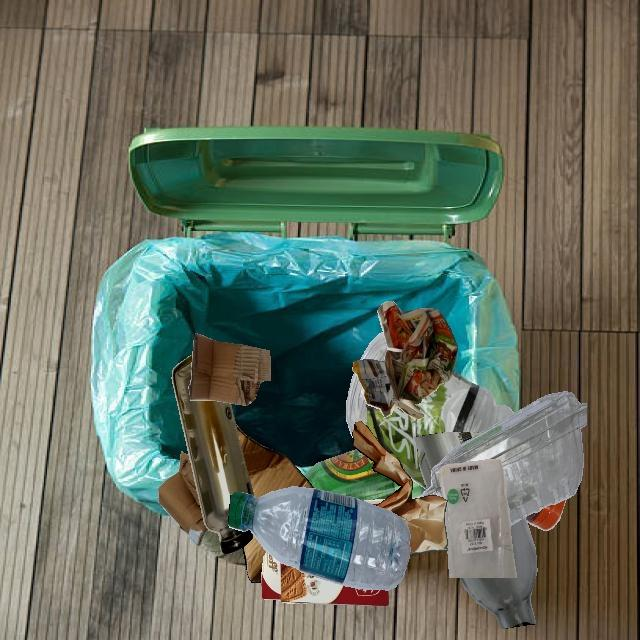cardboard: (262, 551, 389, 606), (235, 420, 314, 499), (189, 333, 271, 406), (158, 451, 208, 546), (242, 534, 267, 583)
glass: (171, 354, 254, 554), (445, 447, 489, 578), (489, 517, 537, 629), (304, 449, 401, 501), (415, 432, 482, 489)
paper: (352, 421, 448, 555), (352, 301, 458, 419)
plastic: (421, 391, 587, 526), (228, 486, 411, 590), (415, 432, 546, 510), (346, 372, 427, 490), (439, 459, 517, 578)
